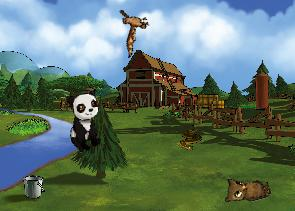eagle: (106, 0, 159, 58)
owl: (220, 168, 272, 207)
panda: (65, 90, 104, 153)
